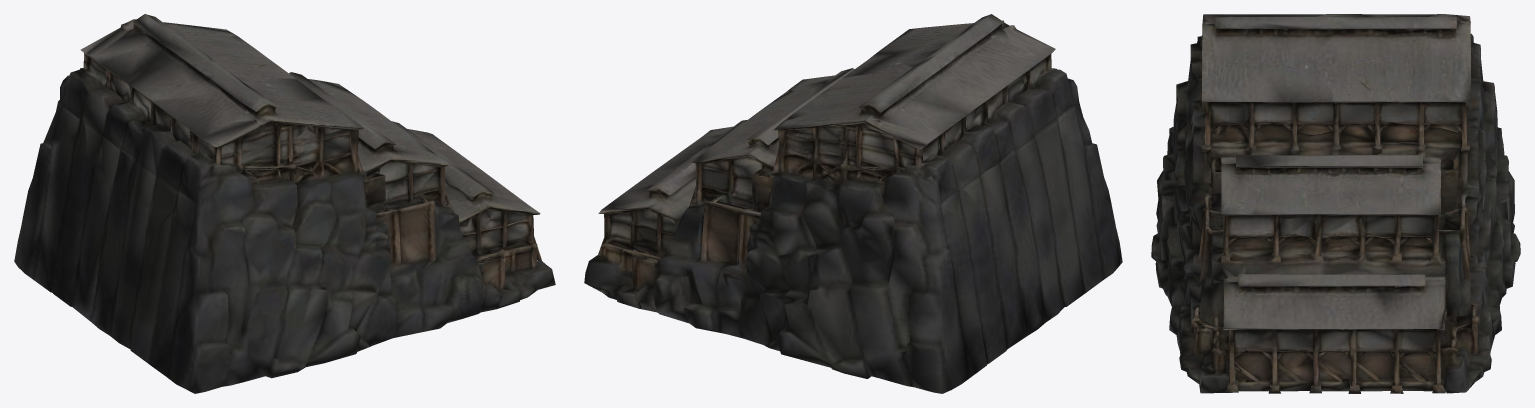
The model's file is quarryMill.glb.
3 renders of one model, left to right at view 1: azimuth 30°, elevation 25°; view 2: azimuth 150°, elevation 25°; view 3: azimuth 270°, elevation 25°, orthographic.
Parts seen in each view (by area): view 1: tripo_node_02f1104c-6f8e-4cc5-9f0d-3140dd5dc29e; view 2: tripo_node_02f1104c-6f8e-4cc5-9f0d-3140dd5dc29e; view 3: tripo_node_02f1104c-6f8e-4cc5-9f0d-3140dd5dc29e.
Boxes of the visible parts, x1=… form: tripo_node_02f1104c-6f8e-4cc5-9f0d-3140dd5dc29e: x1=14, y1=14, x2=555, y2=393; tripo_node_02f1104c-6f8e-4cc5-9f0d-3140dd5dc29e: x1=584, y1=14, x2=1122, y2=393; tripo_node_02f1104c-6f8e-4cc5-9f0d-3140dd5dc29e: x1=1151, y1=14, x2=1520, y2=393.
Bounding box in the file's own units: 0.9988 × 0.5973 × 0.8288.
Materials: 1 (1 with a texture image).
